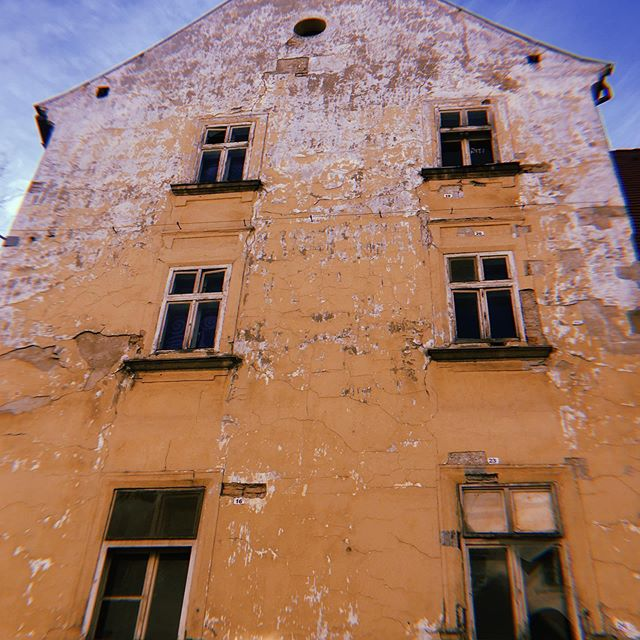building: (1, 1, 630, 631)
window: (430, 458, 587, 640), (66, 464, 214, 640), (418, 229, 555, 364), (133, 242, 242, 364), (423, 91, 513, 177), (186, 109, 271, 198)
